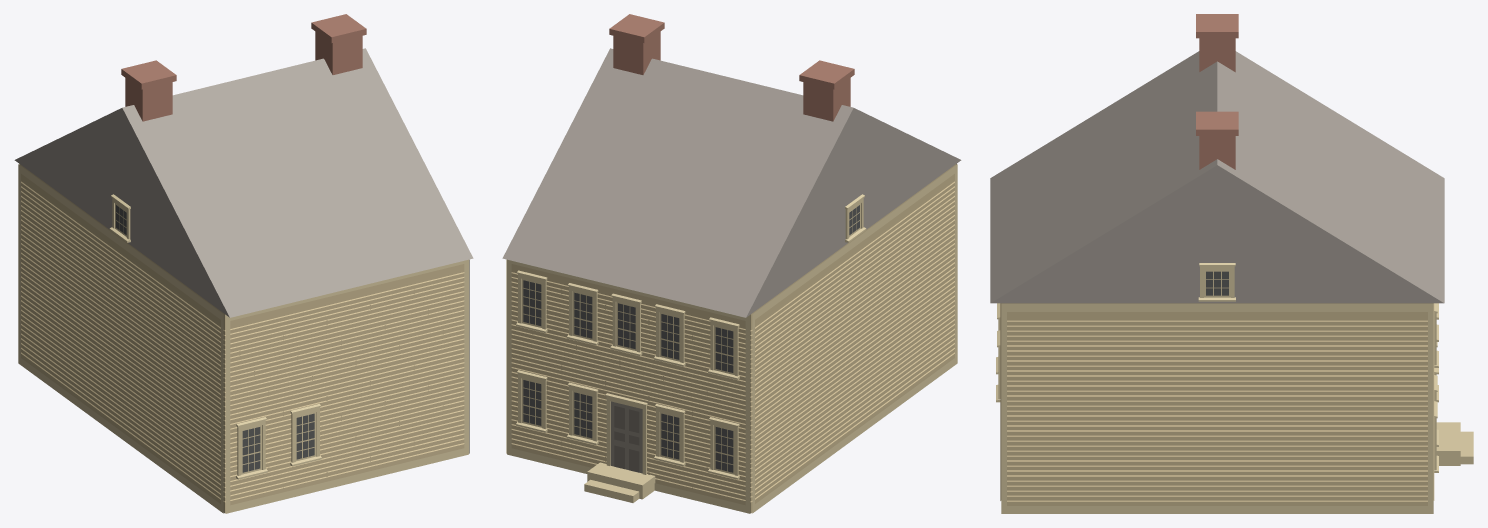
The model's file is recon_1835_blk_washington_dearborn_d7_06__inferred_1835.glb.
3 renders of one model, left to right at view 1: azimuth 30°, elevation 25°; view 2: azimuth 150°, elevation 25°; view 3: azimuth 270°, elevation 25°, orthographic. The views are drawn at different scales.
Parts seen in each view (by area): view 1: recon_1835_blk_washington_dearborn_d7_06__inferred_1835; view 2: recon_1835_blk_washington_dearborn_d7_06__inferred_1835; view 3: recon_1835_blk_washington_dearborn_d7_06__inferred_1835.
Boxes of the visible parts, x1=… form: recon_1835_blk_washington_dearborn_d7_06__inferred_1835: x1=14, y1=14, x2=473, y2=513; recon_1835_blk_washington_dearborn_d7_06__inferred_1835: x1=502, y1=14, x2=961, y2=513; recon_1835_blk_washington_dearborn_d7_06__inferred_1835: x1=990, y1=14, x2=1473, y2=513.
Size of the model in its own units: 7.03 by 9.63 by 11.12.
